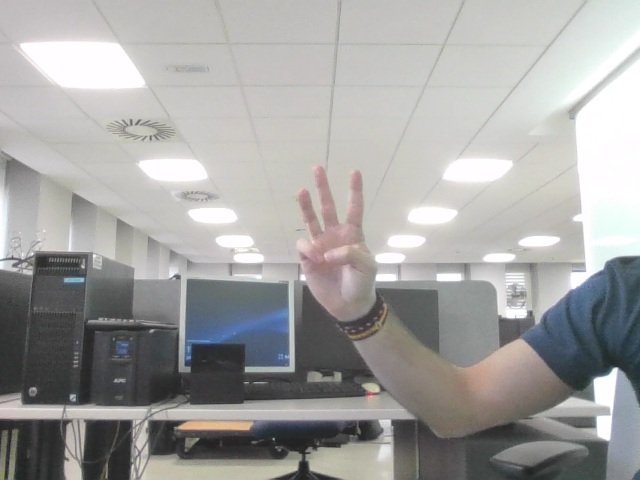3Dedos: (306, 177, 364, 285)
